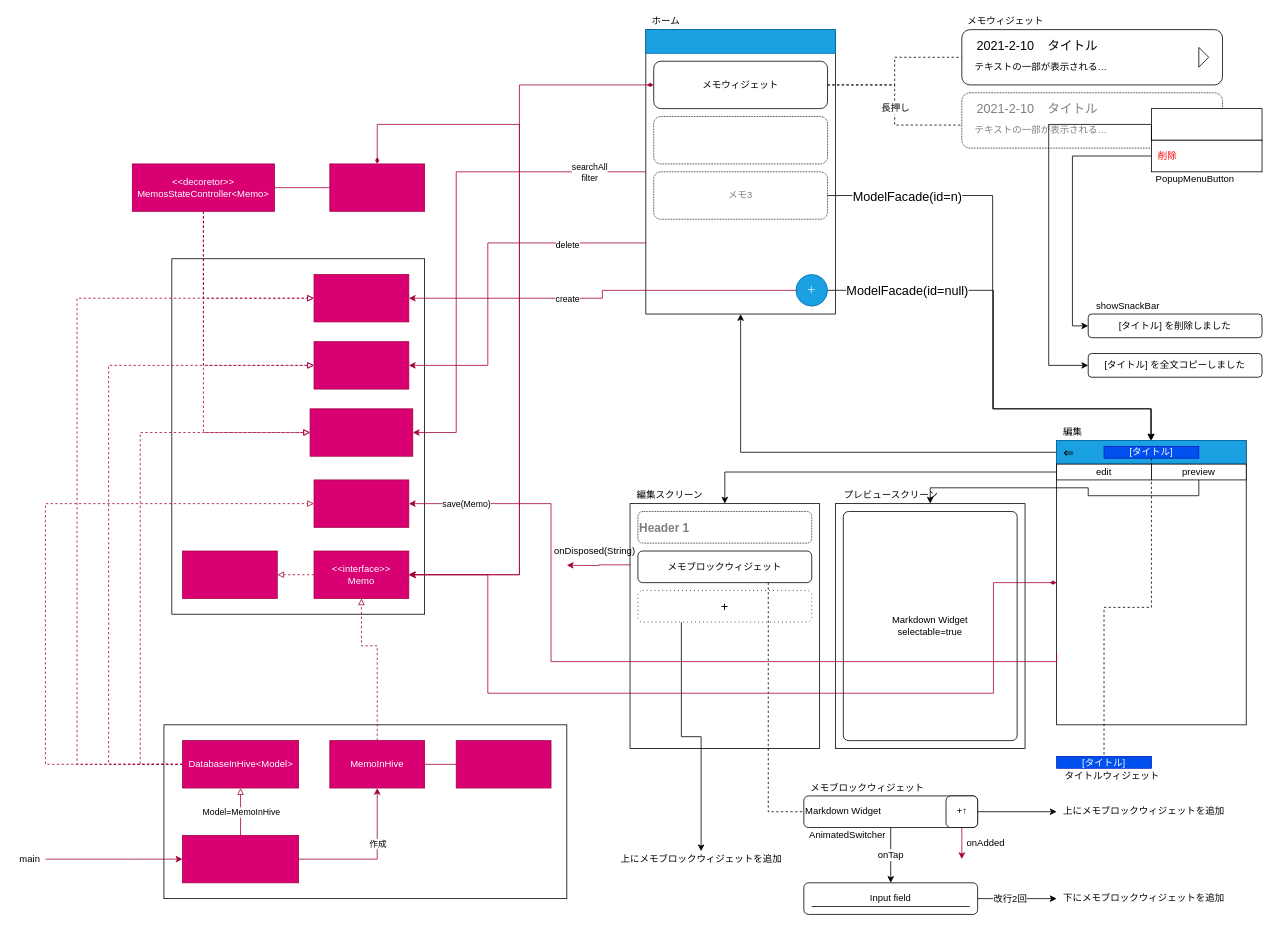
Some shapes in this 1276 by 928 pixel diagram are drawn without their labels. Each missing label, with the centre of its shape:
<<interface>> ModeCreater<Model>: the point at 361,298
<<interface>> Model: the point at 229,574
<<interface>> ModelDeleter<Model>: the point at 361,365
<<interface>> ModelSaver<Model>: the point at 361,503
<<interface>> ModelSearcher<Model>: the point at 361,432
@freeze MemosState<Memo>: the point at 377,187
MemoDatabaseInHive: the point at 240,859
MemoInHiveAdapter: the point at 503,764
メモ2: the point at 740,140
メモ一覧: the point at 740,41
全文コピー: the point at 1206,124
